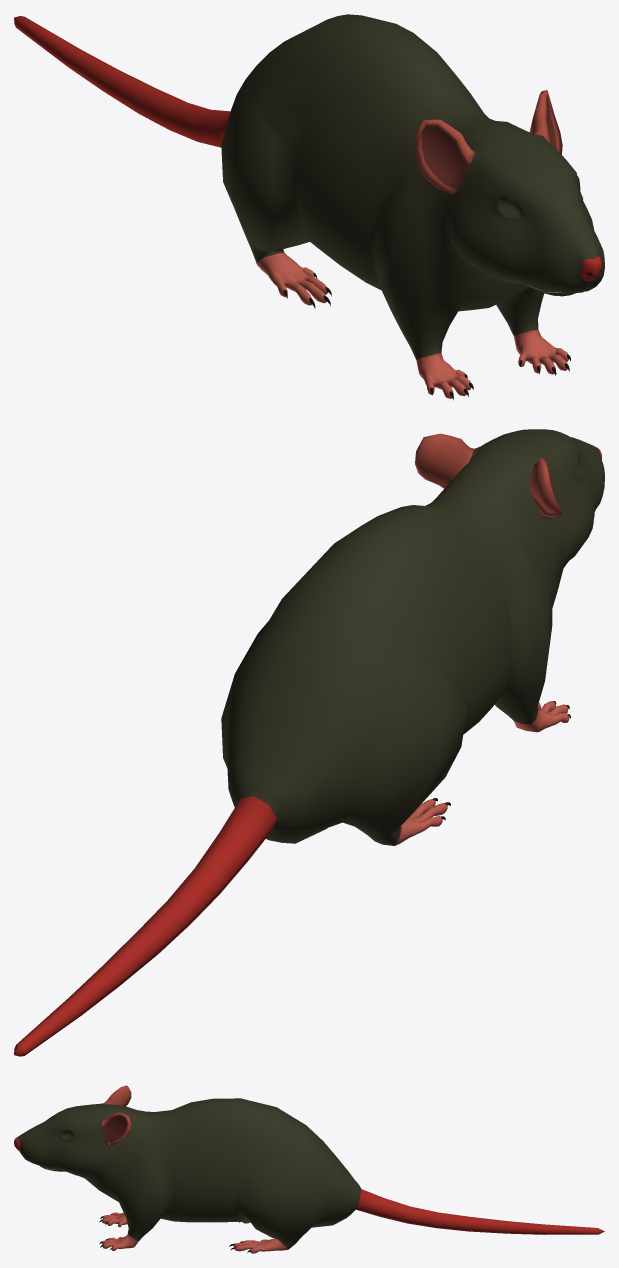
File: rat_rat.obj
The picture shows the model from 3 angles, top to bottom: view 1: azimuth 30°, elevation 25°; view 2: azimuth 150°, elevation 25°; view 3: azimuth 270°, elevation 25°; orthographic projection. The views are drawn at different scales.
Bounding box in the file's own units: 0.0896 × 0.1116 × 0.4428.
